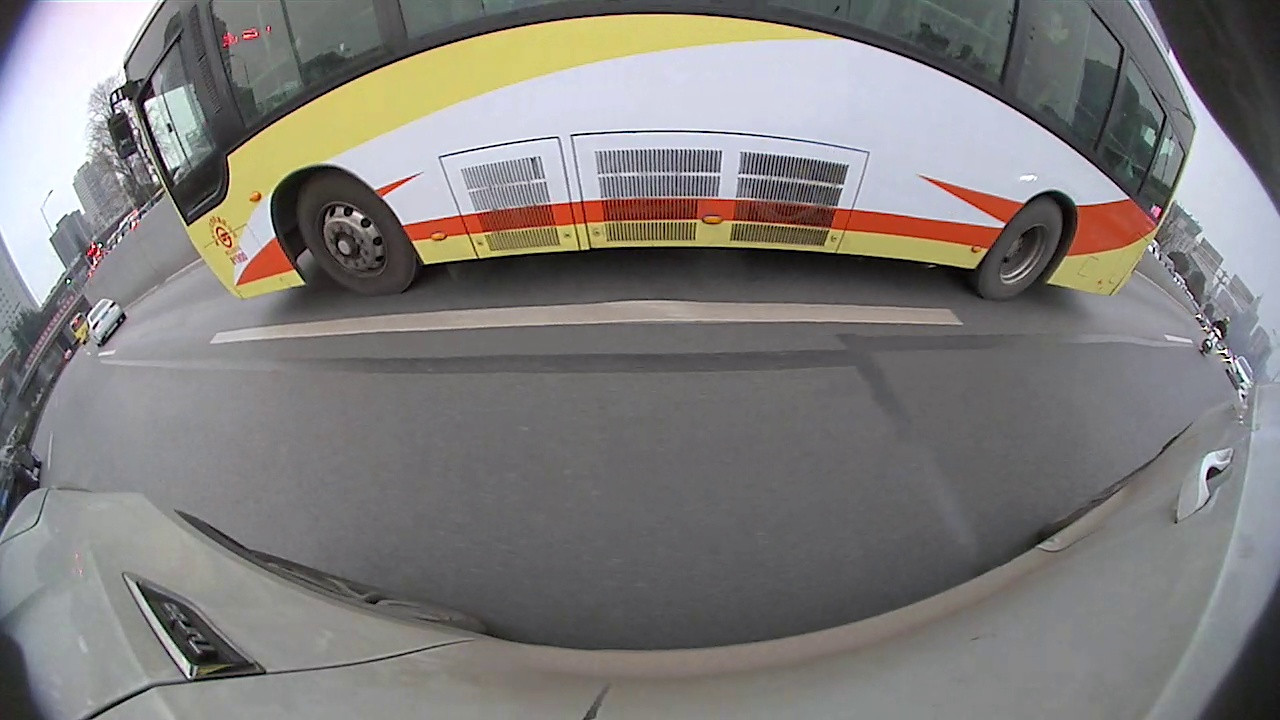bus: (108, 1, 1198, 306)
car: (1, 443, 41, 527), (83, 296, 127, 345)
front: (294, 171, 423, 301)
rear: (970, 198, 1070, 305)
rider: (1198, 312, 1234, 354)
